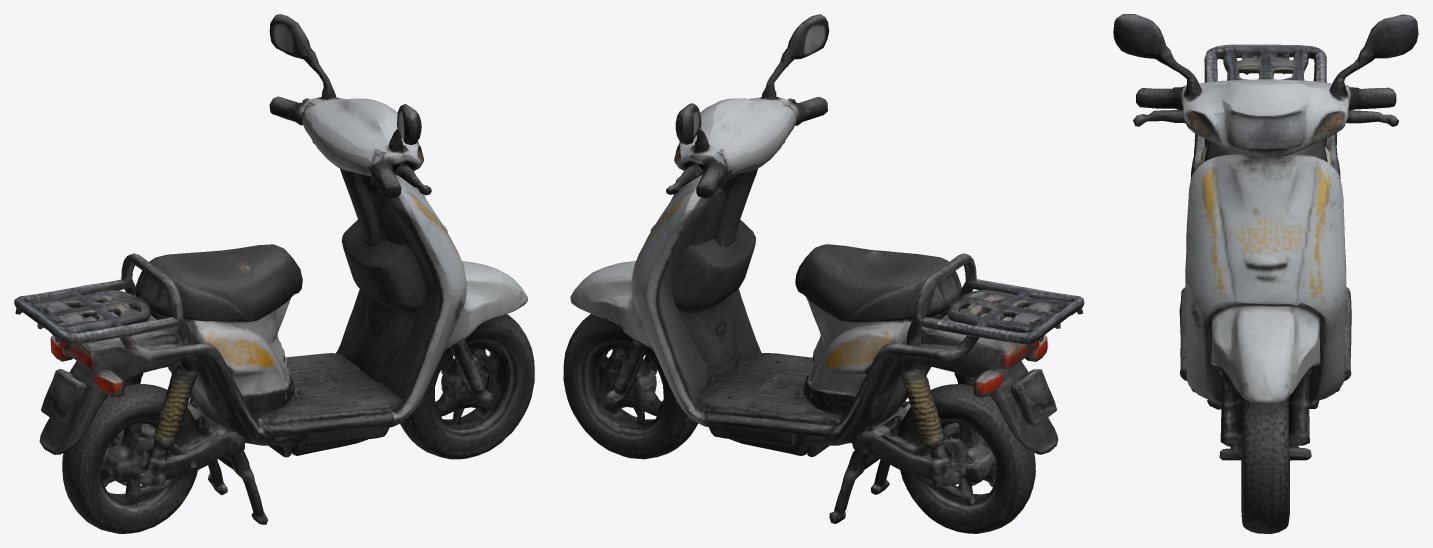
File: glb.glb
3 renders of one model, left to right at view 1: azimuth 30°, elevation 25°; view 2: azimuth 150°, elevation 25°; view 3: azimuth 270°, elevation 25°, orthographic. The views are drawn at different scales.
Visible parts, largest first — view 1: world; view 2: world; view 3: world.
Boxes of the visible parts, box(x1,y1,x2,y2) form: world: box(14, 14, 534, 533); world: box(563, 14, 1084, 533); world: box(1113, 14, 1418, 533).
Size of the model in its own units: 1.8 by 1.47 by 0.9004.
1 material, 1 textured.
